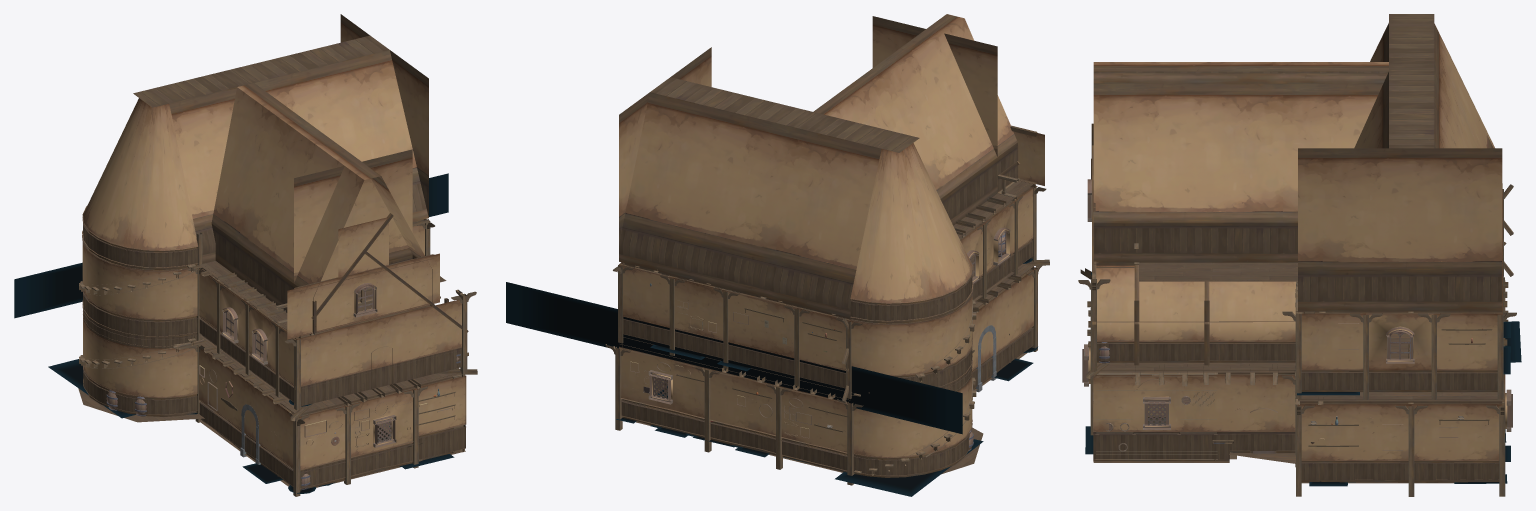
File: IndoorScene_Md_AngelShare_Bartender01.fbx
The picture shows the model from 3 angles, left to right: view 1: azimuth 30°, elevation 25°; view 2: azimuth 150°, elevation 25°; view 3: azimuth 270°, elevation 25°; orthographic projection. The views are drawn at different scales.
Visible parts, largest first — view 1: Indoor_MdBuild_AngelShare01_Main, Indoor_MDBuild_Ao04 (59), Indoor_MdProps_AngelShare01_Pillar02_Vo (×3), Indoor_MdProps_AngelShare01_Pillar01_Vo (×2), Indoor_MDBuild_Ao04 (31), Indoor_MdBuild_AngelShare01_Stair02, Area_MdBuild_Window62_Vo; view 2: Indoor_MdBuild_AngelShare01_Main, Indoor_MDBuild_Ao04 (59), Indoor_MDBuild_Ao04 (31), Indoor_MdProps_AngelShare01_Pillar02_Vo (×2), Indoor_MdProps_AngelShare01_Pillar01_Vo (×2), Area_MdBuild_Window62_Vo, Indoor_MdBuild_AngelShare01_Stair02; view 3: Indoor_MdBuild_AngelShare01_Main, Indoor_MdProps_AngelShare01_Pillar02_Vo (×5), Indoor_MdProps_AngelShare01_Pillar01_Vo (×3), Indoor_MdProps_AngelShare01_Chest03_Vo, Area_MdBuild_Window62_Vo, Area_MdBuild_Window58_Vo.
Part boxes in pixels (x1,y1,x2,y2): Indoor_MdBuild_AngelShare01_Main: (78, 14, 477, 490); Indoor_MDBuild_Ao04 (59): (14, 173, 448, 318); Indoor_MdProps_AngelShare01_Pillar02_Vo (×3): (285, 289, 476, 496); Indoor_MdProps_AngelShare01_Pillar01_Vo (×2): (335, 386, 427, 484); Indoor_MDBuild_Ao04 (31): (48, 359, 135, 418); Indoor_MdBuild_AngelShare01_Stair02: (79, 338, 197, 368); Area_MdBuild_Window62_Vo: (373, 415, 396, 447); Indoor_MdBuild_AngelShare01_Main: (619, 14, 1049, 477); Indoor_MDBuild_Ao04 (59): (506, 282, 962, 434); Indoor_MDBuild_Ao04 (31): (835, 439, 983, 496); Indoor_MdProps_AngelShare01_Pillar02_Vo (×2): (605, 344, 863, 485); Indoor_MdProps_AngelShare01_Pillar01_Vo (×2): (694, 366, 791, 469); Area_MdBuild_Window62_Vo: (648, 370, 672, 404); Indoor_MdBuild_AngelShare01_Stair02: (853, 377, 976, 475); Indoor_MdBuild_AngelShare01_Main: (1080, 14, 1513, 483); Indoor_MdProps_AngelShare01_Pillar02_Vo (×5): (1091, 273, 1516, 496); Indoor_MdProps_AngelShare01_Pillar01_Vo (×3): (1349, 313, 1450, 496); Indoor_MdProps_AngelShare01_Chest03_Vo: (1095, 372, 1217, 459); Area_MdBuild_Window62_Vo: (1143, 397, 1170, 429); Area_MdBuild_Window58_Vo: (1386, 327, 1414, 363).
Size of the model in its own units: 25.61 by 16.87 by 19.5.
15 materials, 15 textured.
